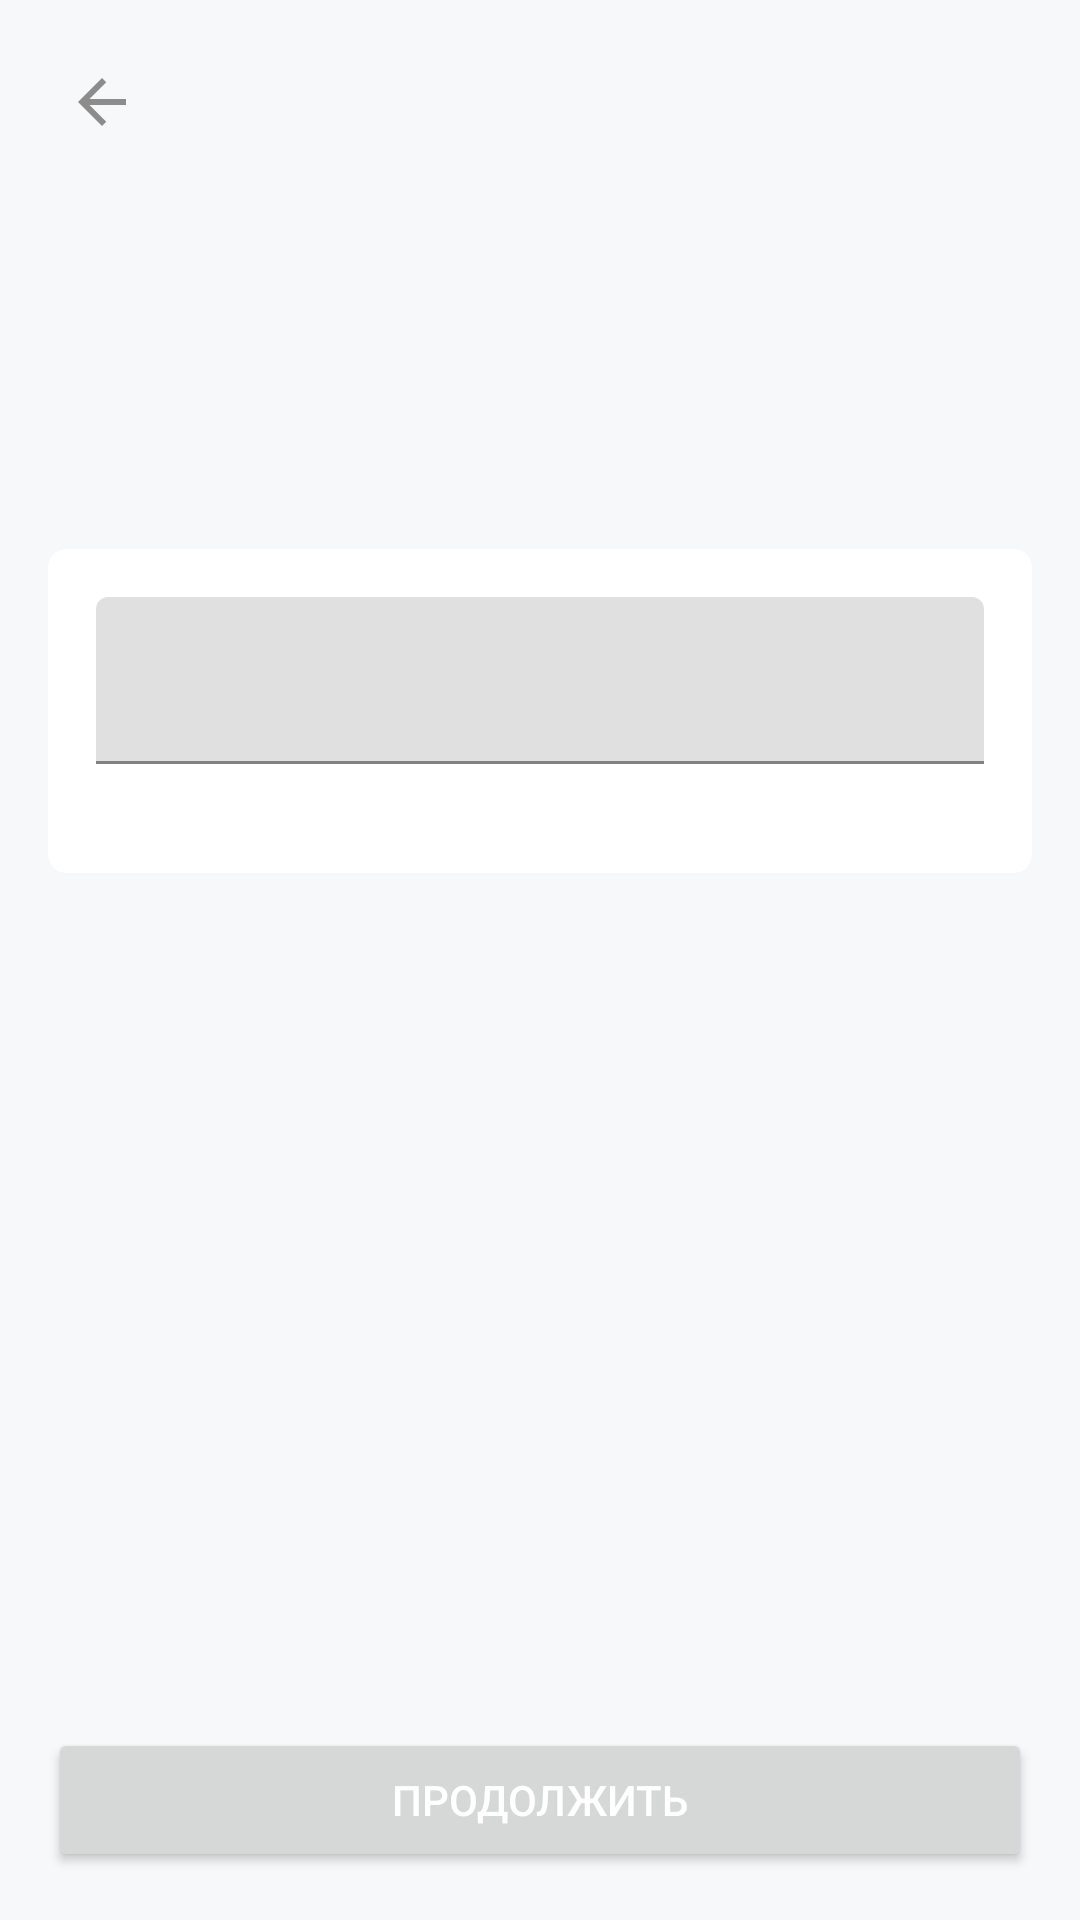

Named icons in this screenshot (1080x1920) and their centers, (x=x, y=y):
vicon arrow back: (x=102, y=102)
